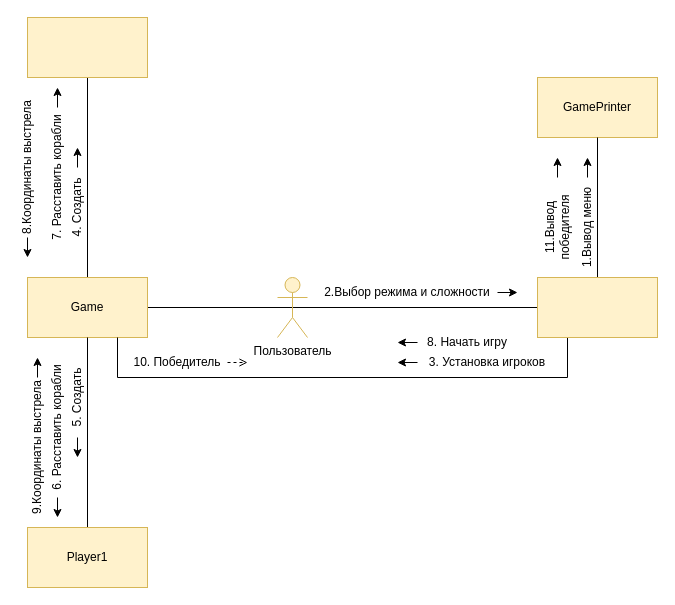
Image size: 675x605. Some labels were removed from this diagram. The shapes that lost their labels are listed below. From the top down, each one's box as (x1, y1, x2, y2) in pixels, then its label:
(26, 16, 148, 78): Player2
(536, 276, 658, 338): GameUI
